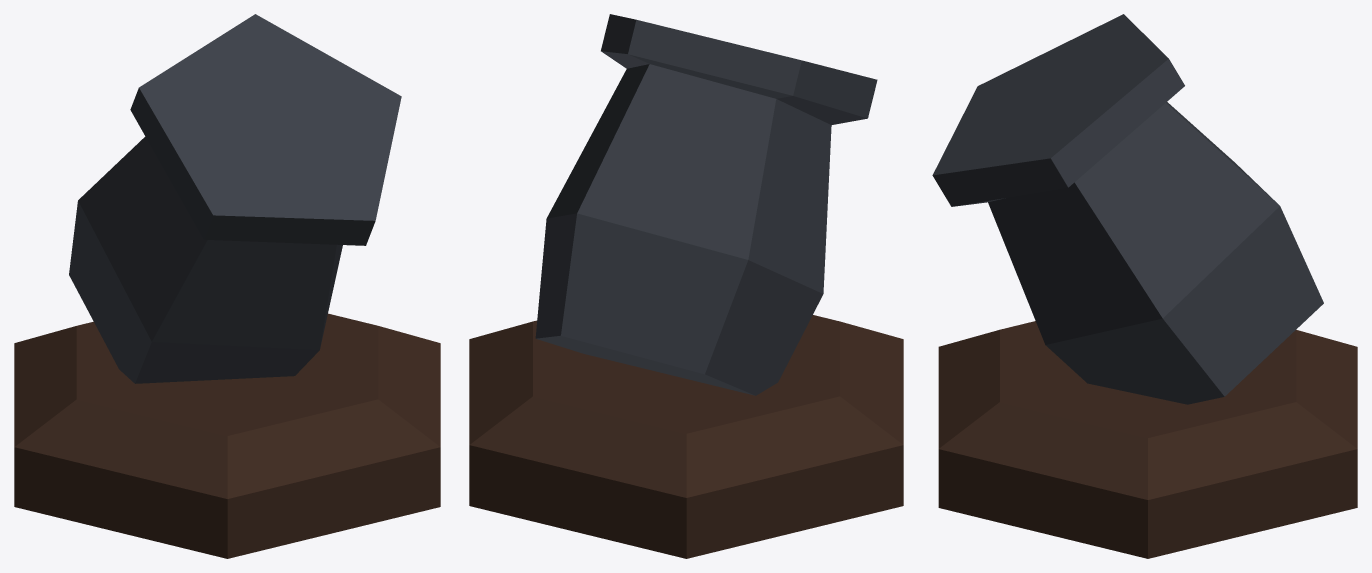
File: SM_Prop_DeckMortar_LQ.glb
3 renders of one model, left to right at view 1: azimuth 30°, elevation 25°; view 2: azimuth 150°, elevation 25°; view 3: azimuth 270°, elevation 25°, orthographic. The views are drawn at different scales.
Parts seen in each view (by area): view 1: SM_Prop_DeckMortar_LQ; view 2: SM_Prop_DeckMortar_LQ; view 3: SM_Prop_DeckMortar_LQ.
Boxes of the visible parts, x1,y1,x2,y2 form: SM_Prop_DeckMortar_LQ: (14,14,440,558); SM_Prop_DeckMortar_LQ: (469,14,903,558); SM_Prop_DeckMortar_LQ: (932,14,1357,558).
Bounding box in the file's own units: 1.64 × 1.56 × 1.44.
1 material, 1 textured.
